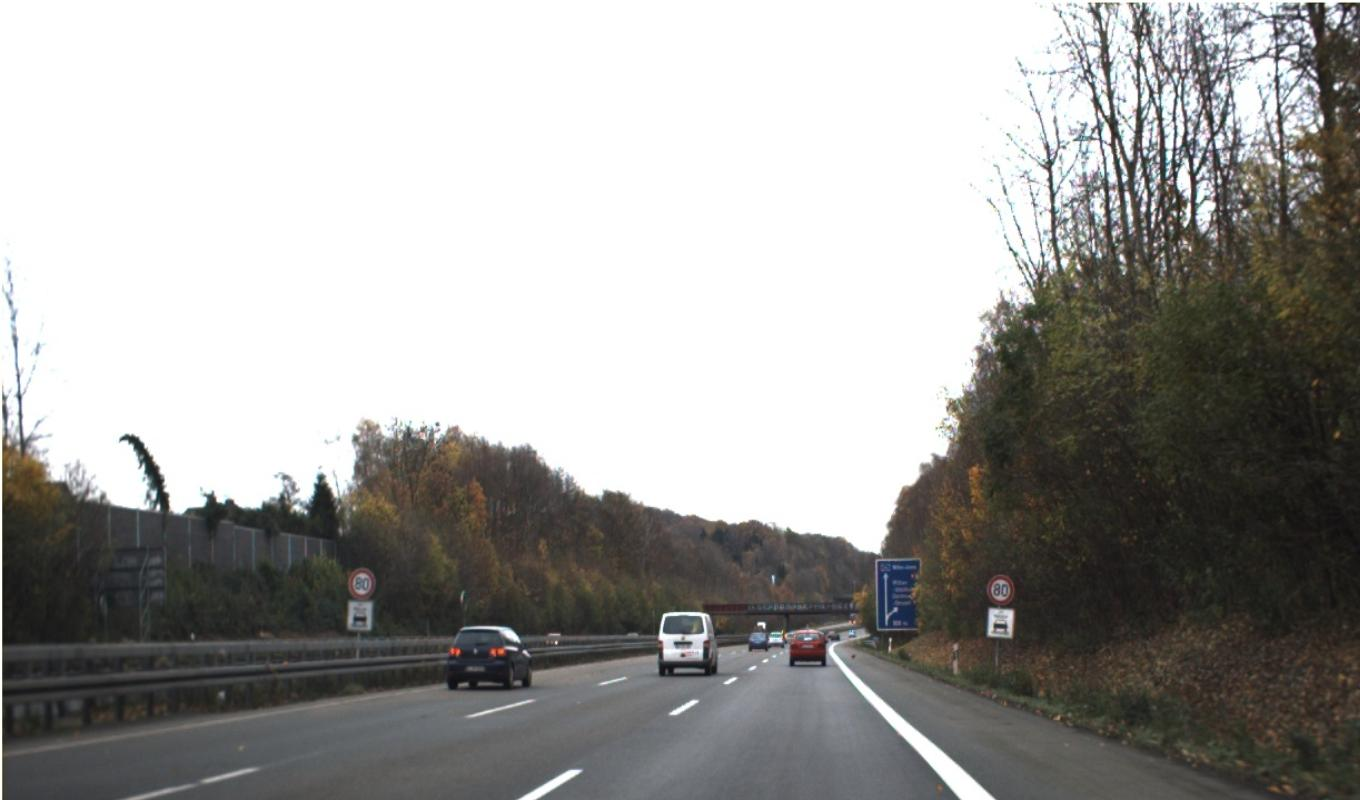NO-speed limit 80: (347, 567, 1013, 606)
